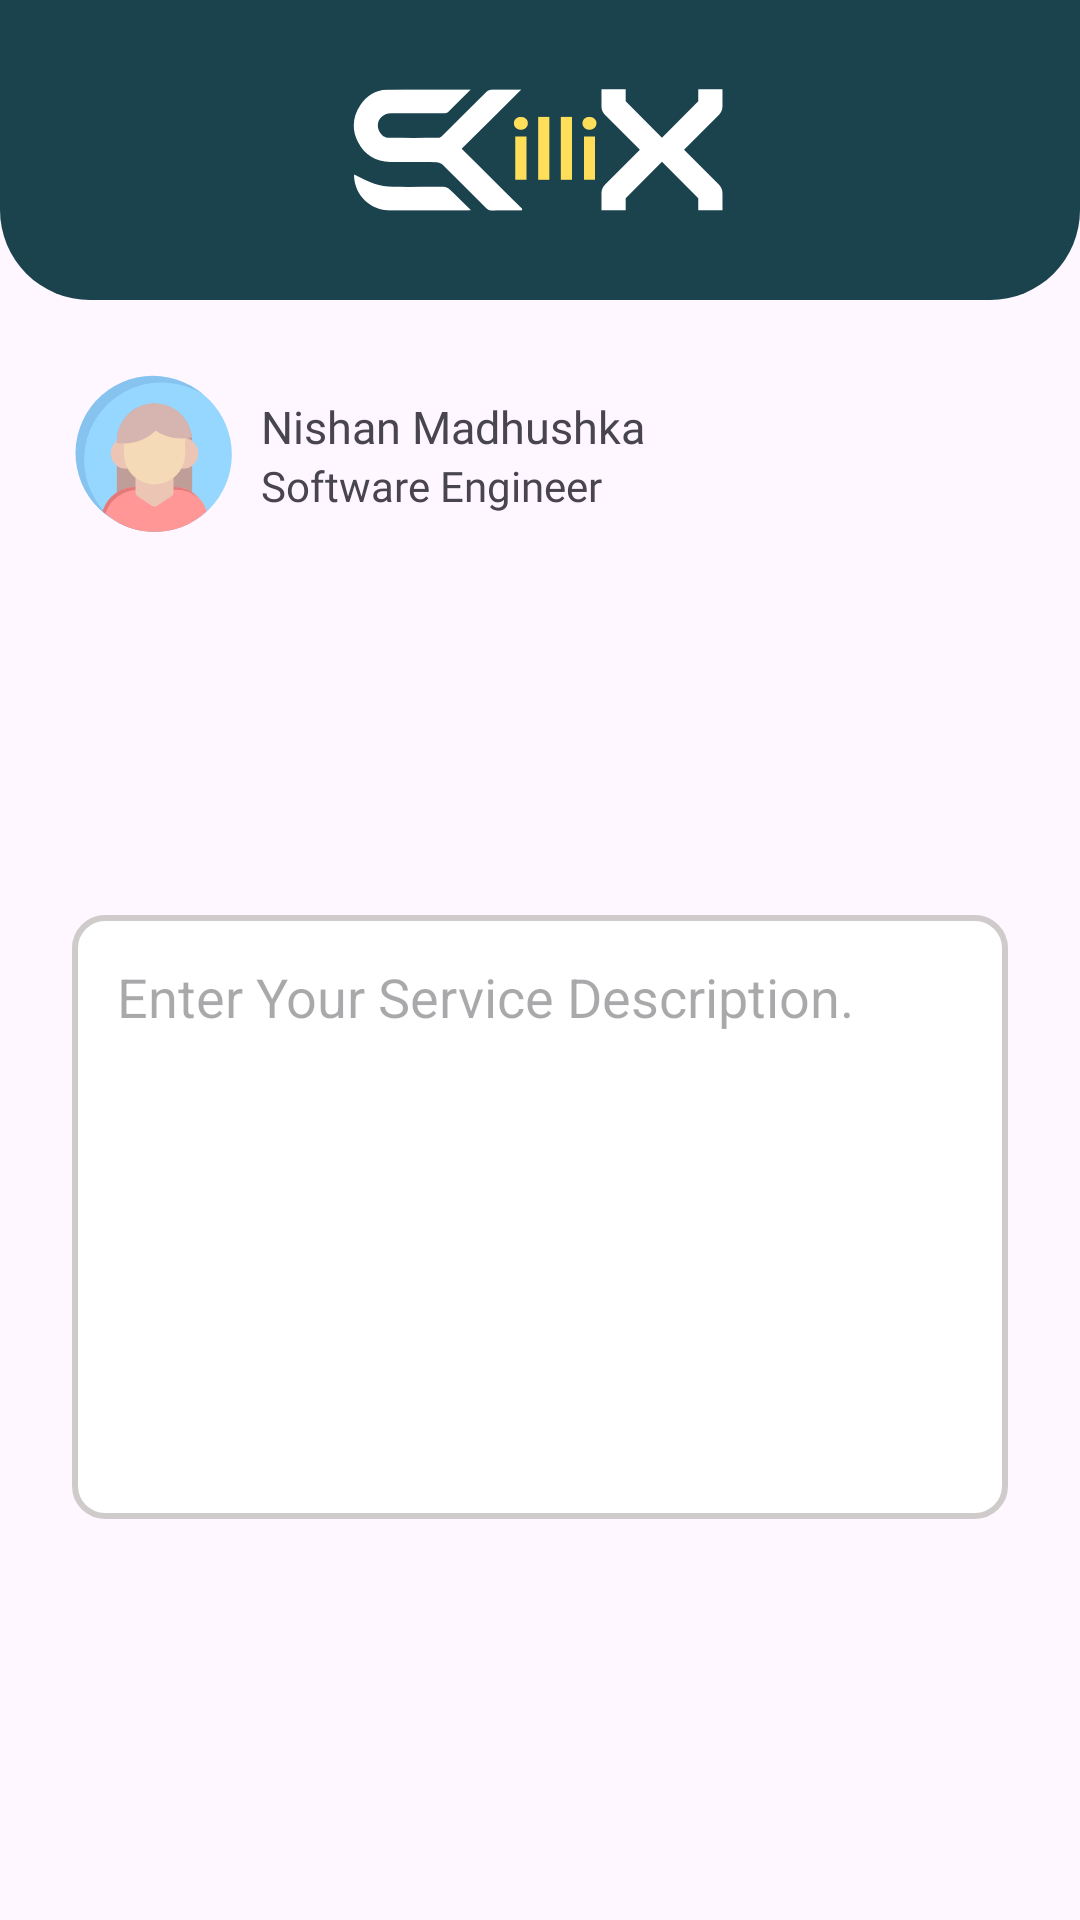

Icon click points for this 1080 × 1920 phone screenshot, format point (x, y):
profile: point (153, 453)
